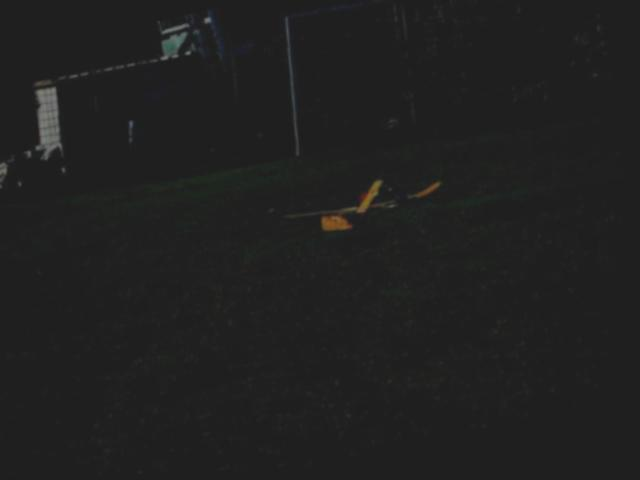iha: (257, 152, 463, 257)
